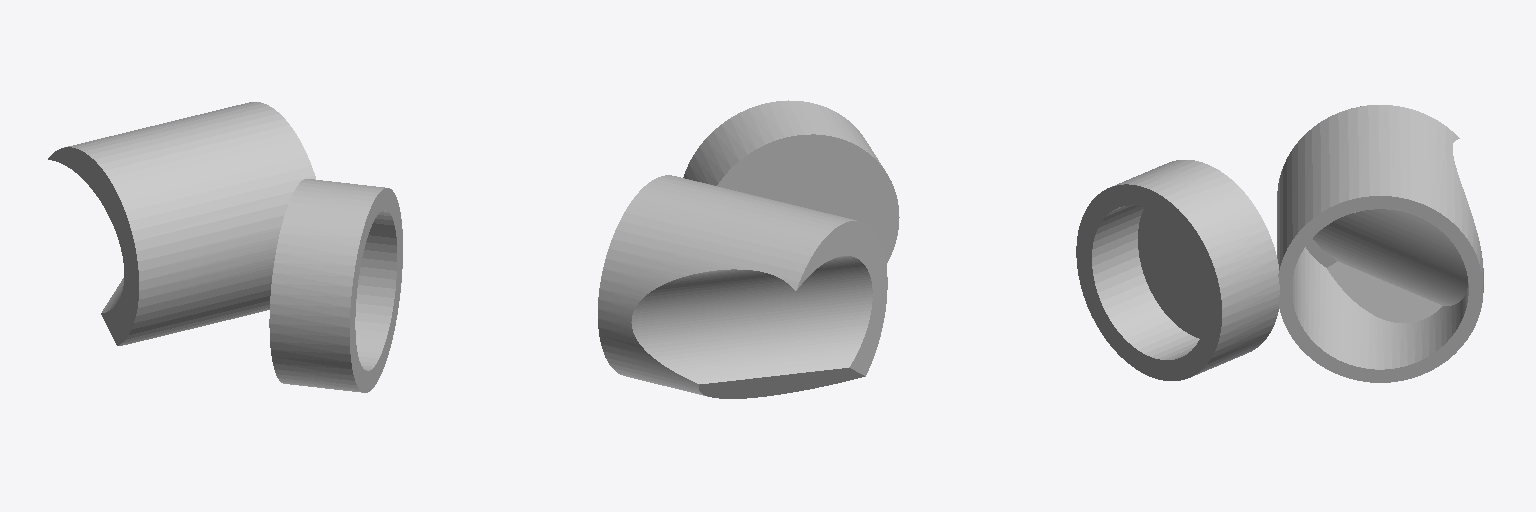
Rendered from jig.obj.
The picture shows the model from 3 angles: view 1: azimuth 30°, elevation 25°; view 2: azimuth 150°, elevation 25°; view 3: azimuth 270°, elevation 25°; orthographic projection.
Parts seen in each view (by area): view 1: Fixture\Solid; view 2: Fixture\Solid; view 3: Fixture\Solid.
Part boxes in pixels (x1,y1,x2,y2): Fixture\Solid: (48,102,402,392); Fixture\Solid: (598,100,899,398); Fixture\Solid: (1076,105,1483,382).
Size of the model in its own units: 2.31 by 1.75 by 3.45.